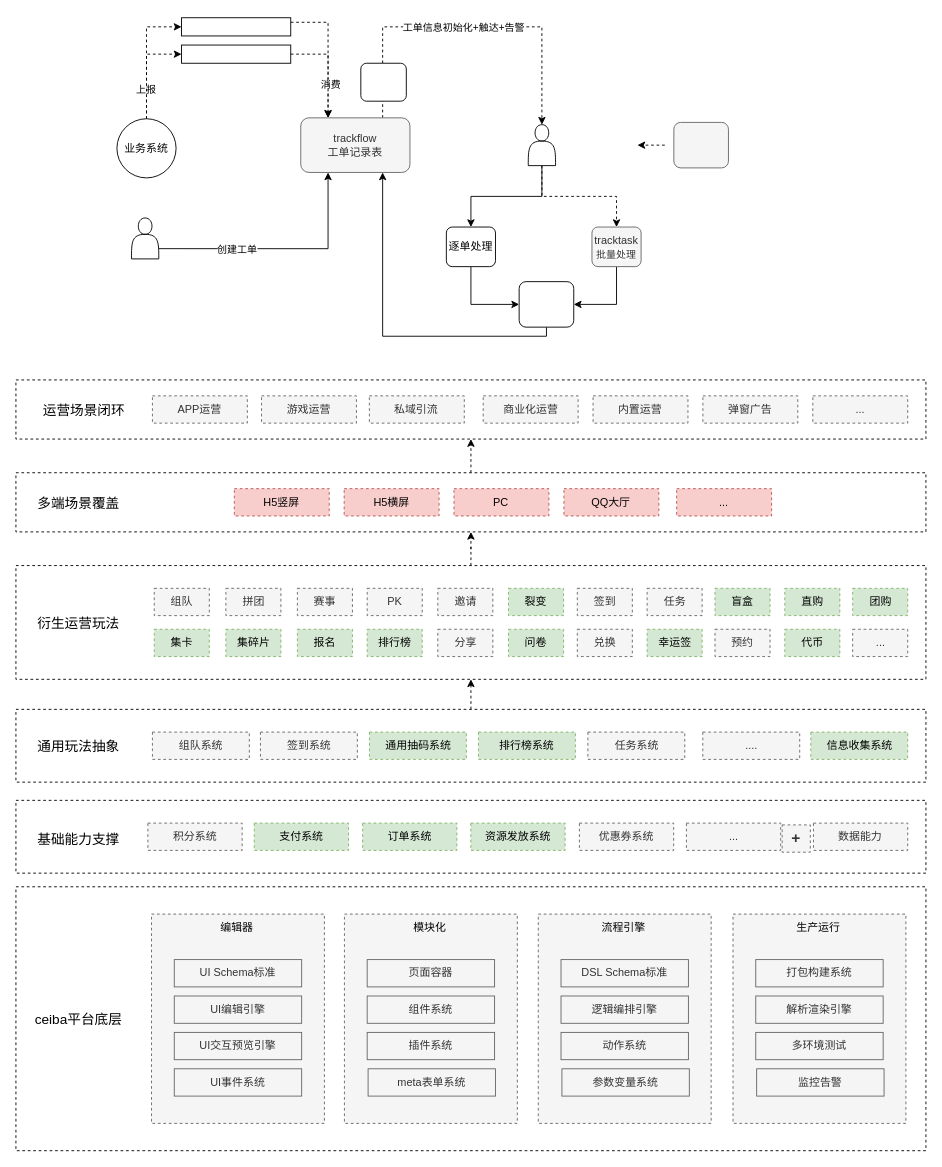
Image size: 942x1167. Some labels were removed from this diagram. The box of each missing label's shape, as (x1, y1, x2, y2) in pixels:
mq: (181, 44, 291, 63)
oplogic 操作类型: (518, 281, 574, 327)
trackconfig 工单配置: (673, 121, 728, 168)
定时任务: (360, 62, 406, 101)
死信: (181, 17, 291, 36)
